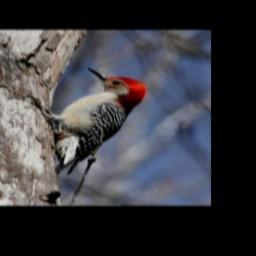Woodpecker: (16, 65, 152, 180)
